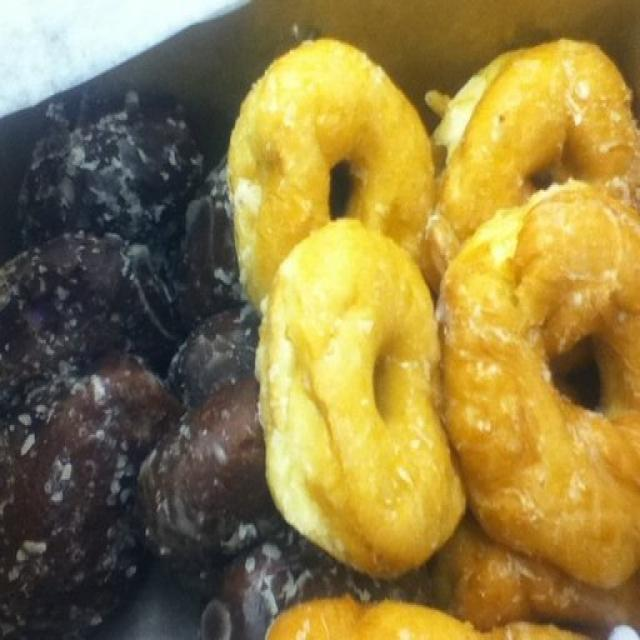Donuts: (222, 36, 639, 640)
